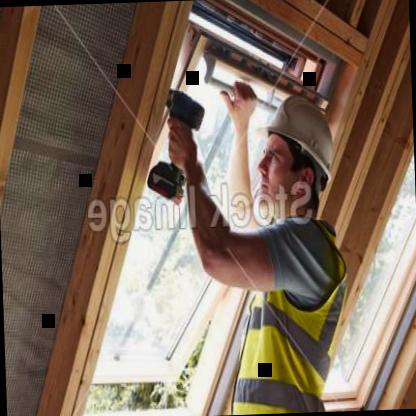helmet: (244, 74, 345, 234)
